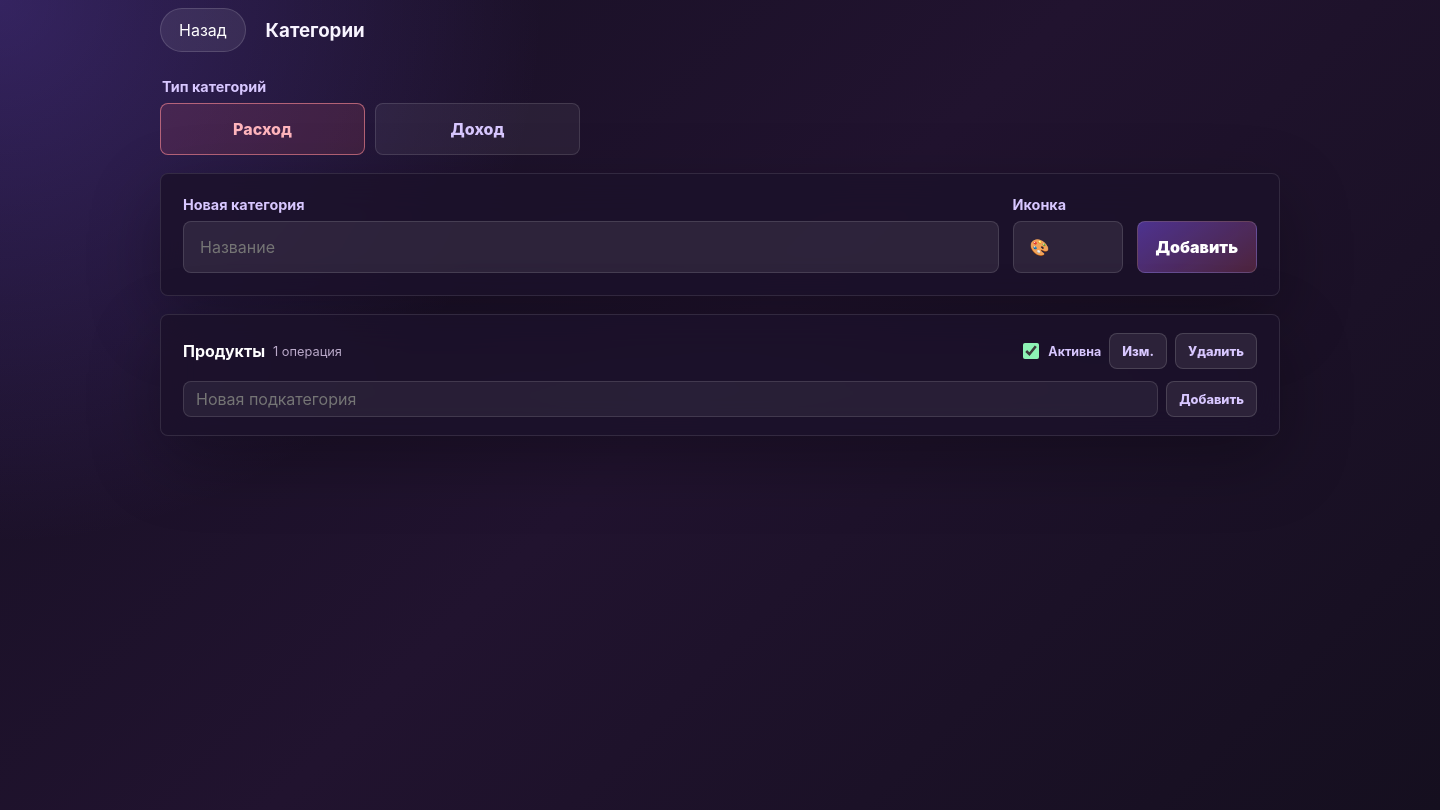
Scenario: CategoriesPage › locks the category type when operations are attached
The image size is (1440, 810).
Click the button "Изм.": point(1138, 351) [1109, 333, 1167, 369]
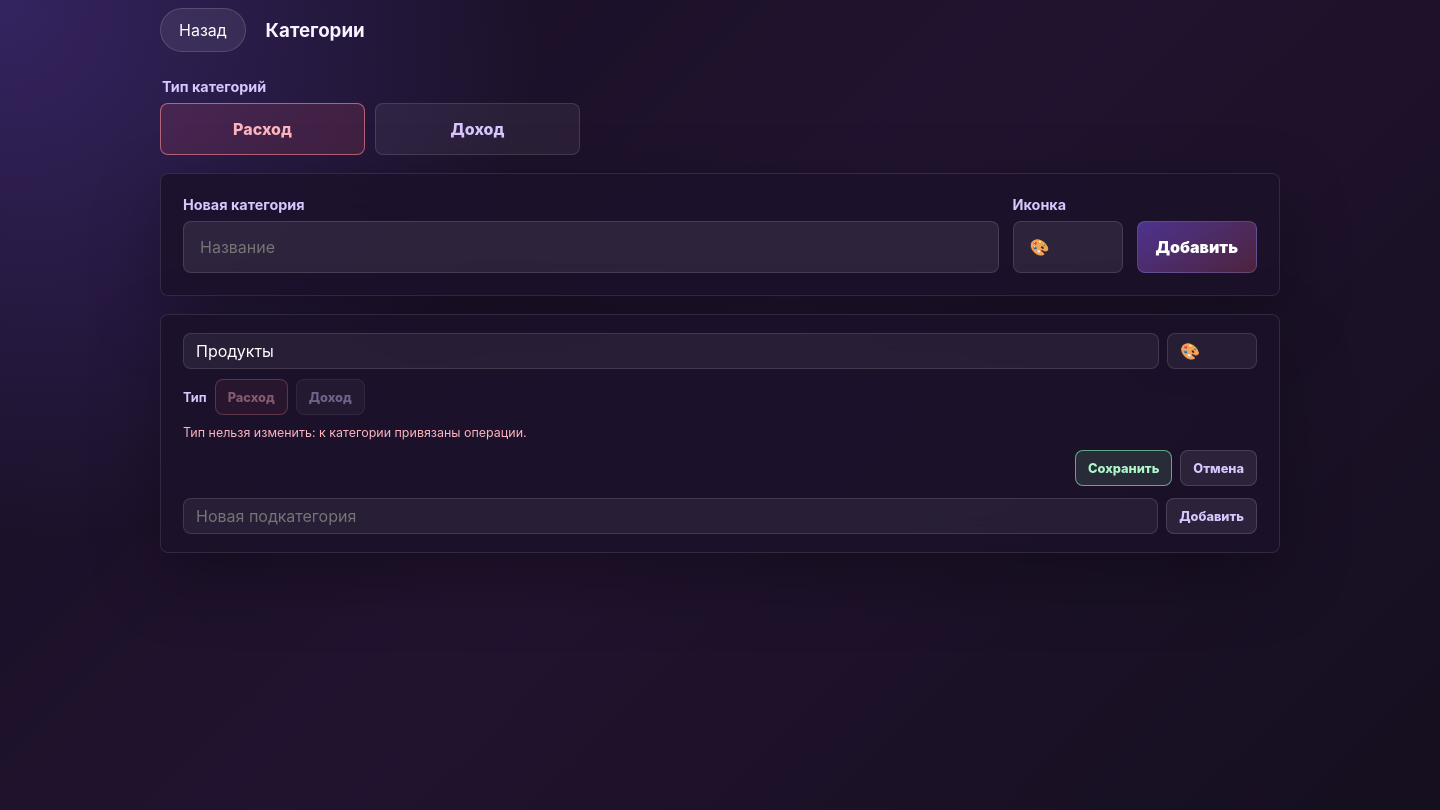
Check: the button "Расход" is disabled, box [215, 379, 288, 415]
Check: the button "Доход" is disabled, box [296, 379, 365, 415]
Check: the text "Тип нельзя изменить" is shown, box [183, 425, 527, 440]
